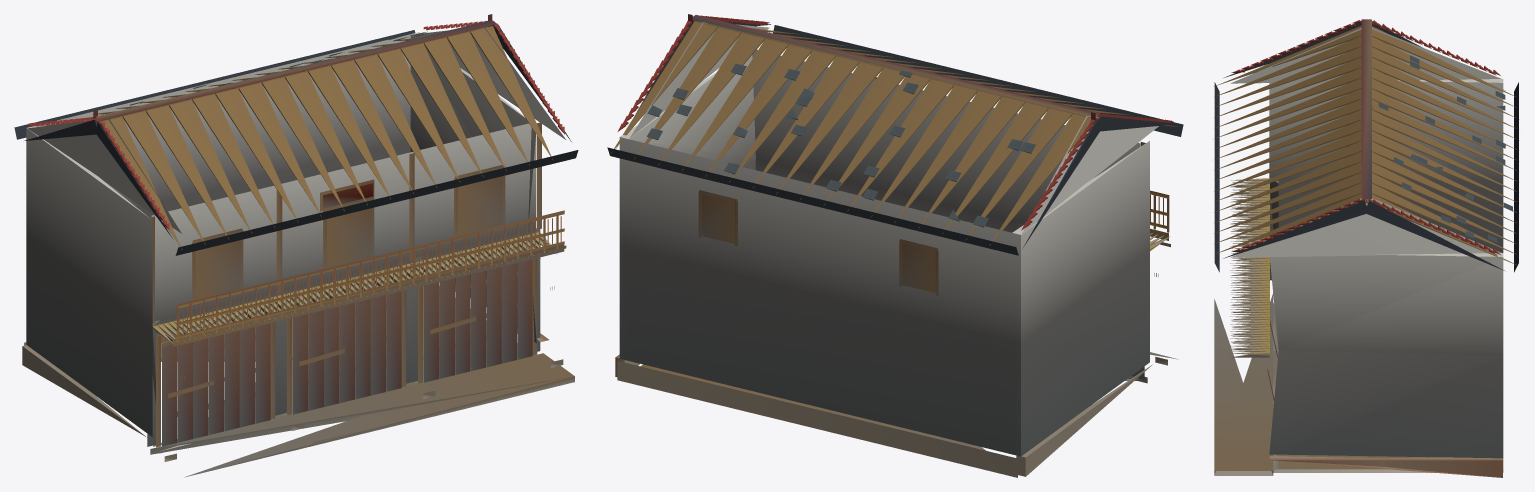
File: lib_lib_house_a2.vc2.glb
The picture shows the model from 3 angles, left to right: view 1: azimuth 30°, elevation 25°; view 2: azimuth 150°, elevation 25°; view 3: azimuth 270°, elevation 25°; orthographic projection. The views are drawn at different scales.
Parts seen in each view (by area): view 1: lib_lib_house_a2; view 2: lib_lib_house_a2; view 3: lib_lib_house_a2.
Boxes of the visible parts, left/top/right/bottom form: lib_lib_house_a2: left=14, top=14, right=578, bottom=477; lib_lib_house_a2: left=607, top=14, right=1183, bottom=477; lib_lib_house_a2: left=1214, top=19, right=1519, bottom=477.
Bounding box in the file's own units: 11.1 × 8 × 7.9.
